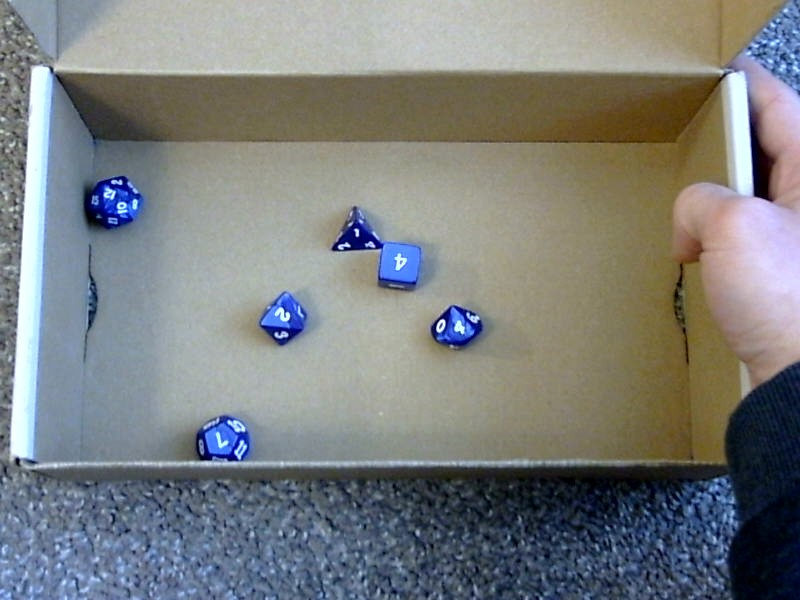d10 4: (427, 299, 485, 351)
d12 7: (191, 408, 252, 464)
d20 12: (83, 166, 143, 230)
d4 1: (324, 200, 384, 253)
d6 4: (375, 244, 423, 292)
d8 2: (255, 286, 308, 348)
